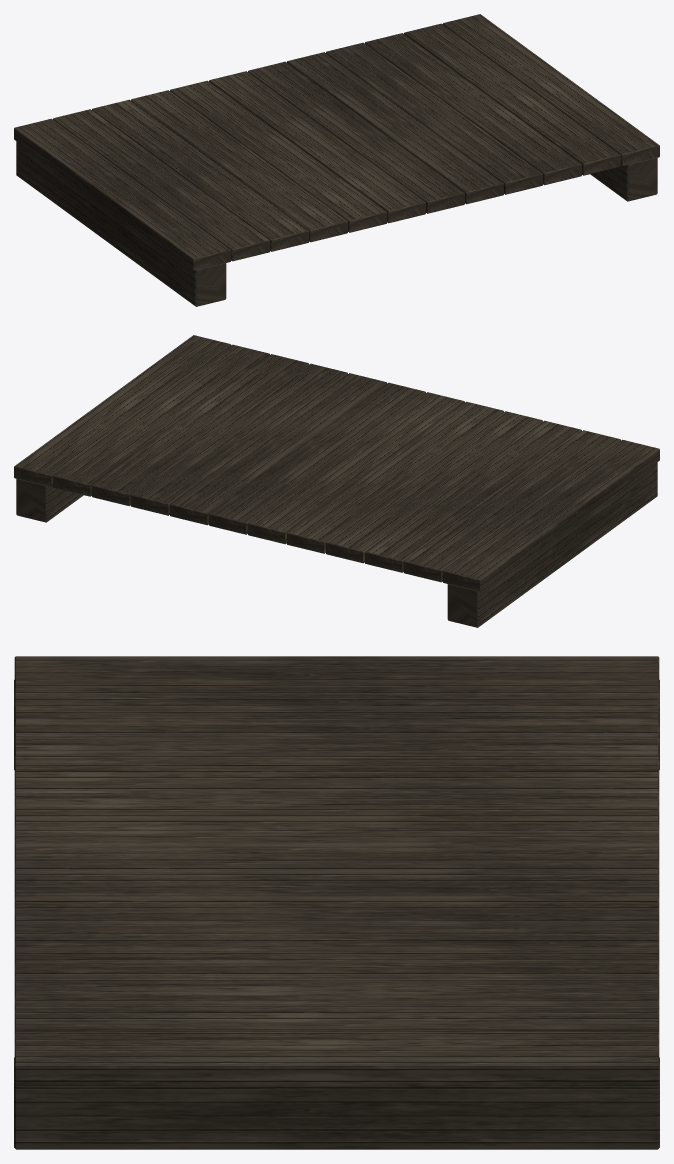
3 views of the same model, one above another, from view 1: azimuth 30°, elevation 25°; view 2: azimuth 150°, elevation 25°; view 3: azimuth 270°, elevation 25° (orthographic). The views are drawn at different scales.
Visible parts, largest first — view 1: Mesh_dark; view 2: Mesh_dark; view 3: Mesh_dark.
Boxes of the visible parts, x1=… form: Mesh_dark: x1=14, y1=14, x2=659, y2=306; Mesh_dark: x1=14, y1=335, x2=659, y2=627; Mesh_dark: x1=14, y1=656, x2=659, y2=1149.
Size of the model in its own units: 1.8 by 0.18 by 1.2.
Materials: 2 (1 with a texture image).
